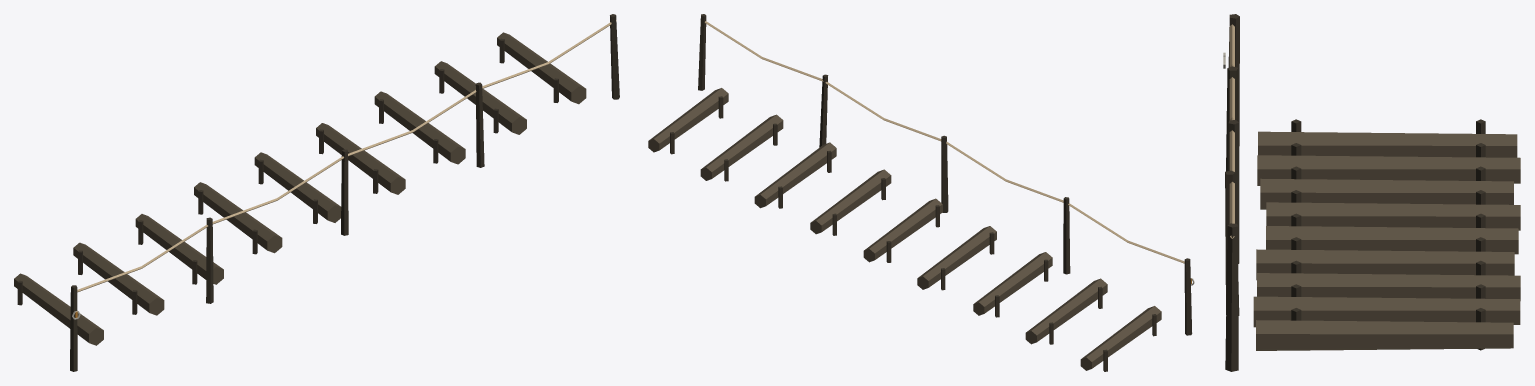
Rendered from ridge_steps_lower.glb.
3 renders of one model, left to right at view 1: azimuth 30°, elevation 25°; view 2: azimuth 150°, elevation 25°; view 3: azimuth 270°, elevation 25°, orthographic. The views are drawn at different scales.
Parts seen in each view (by area): view 1: driftwood_d55, driftwood_d70, driftwood_d5; view 2: driftwood_d55, driftwood_d70, driftwood_d5; view 3: driftwood_d55, driftwood_d70, driftwood_d5.
Part boxes in pixels (box(x1,y1,x2,y2)): driftwood_d55: box(14, 32, 586, 345); driftwood_d70: box(17, 14, 619, 371); driftwood_d5: box(77, 20, 616, 292); driftwood_d55: box(648, 88, 1161, 370); driftwood_d70: box(670, 14, 1192, 371); driftwood_d5: box(705, 21, 1184, 263); driftwood_d55: box(1253, 131, 1520, 350); driftwood_d70: box(1225, 14, 1485, 371); driftwood_d5: box(1229, 24, 1234, 238).
Size of the model in its own units: 7.61 by 2.95 by 2.09.
